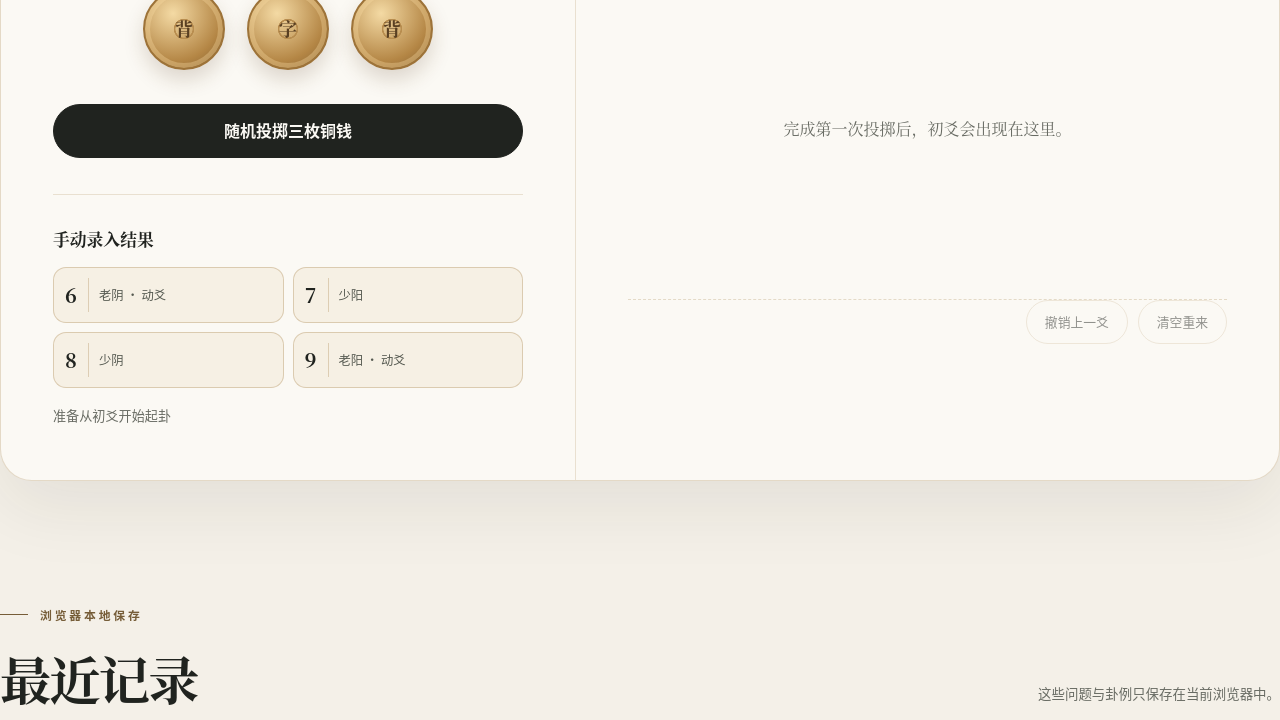
CastingExperience › keeps casting state when browser storage rejects a draft save
(page scrolled)
Click the button "少阴 8".
click(168, 360)  # box [53,332,284,388]
(page scrolled)
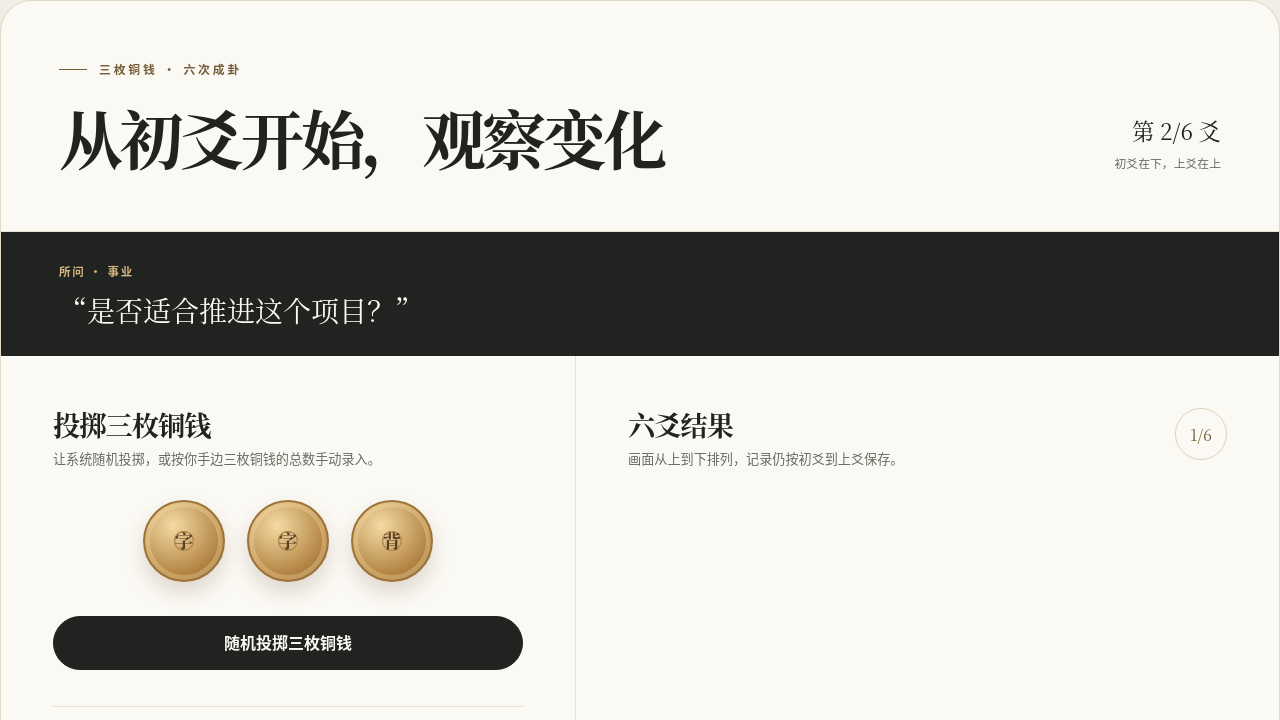
Expected: the text "第 2/6 爻" is shown, [1132,111,1221,149]
